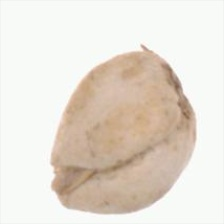L3: (48, 158, 72, 208)
L4: (50, 47, 196, 214)
